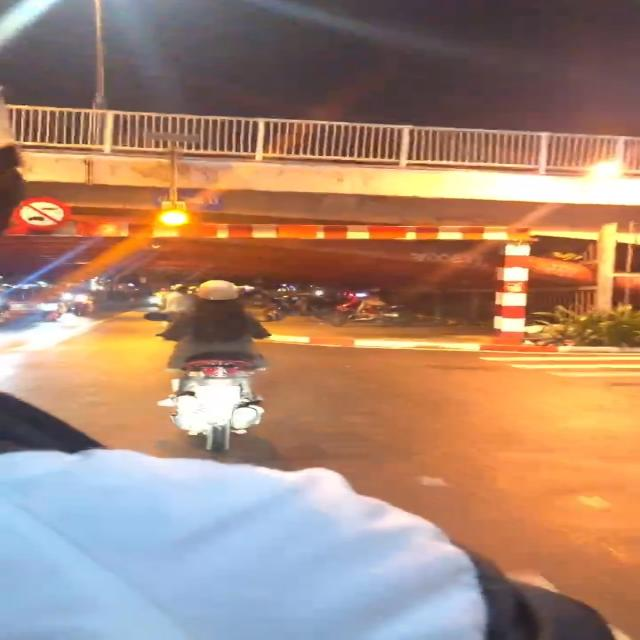Bien bao cam xe oto khach va xe oto tai: (14, 192, 81, 234)
